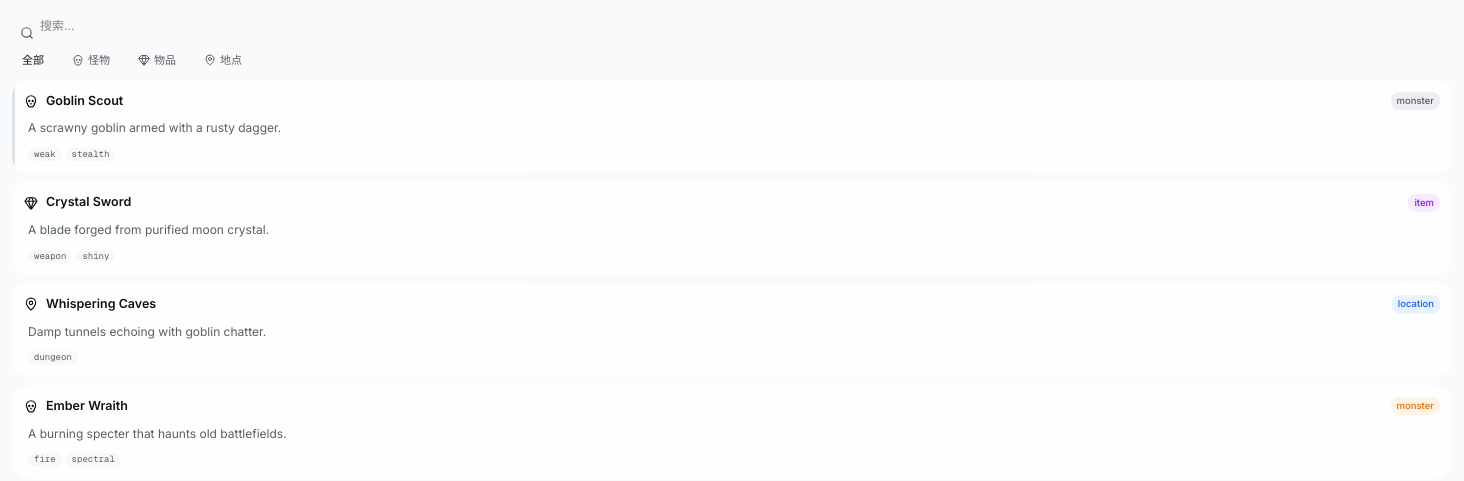
Test: FilterContainer component › combines search query and tab filter
Click the tab "怪物".
click(91, 60)  # box x1=62 y1=48 x2=120 y2=72
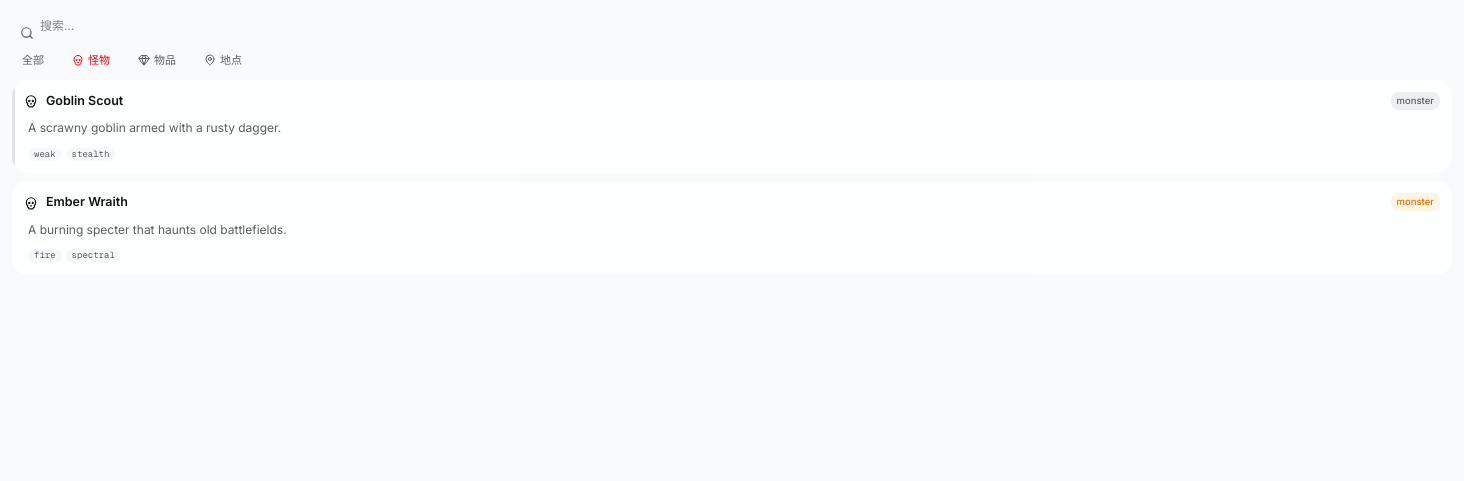
Type "goblin" into the search field with placeholder "搜索…".
click(732, 26); type("goblin")  # box x1=12 y1=12 x2=1452 y2=40
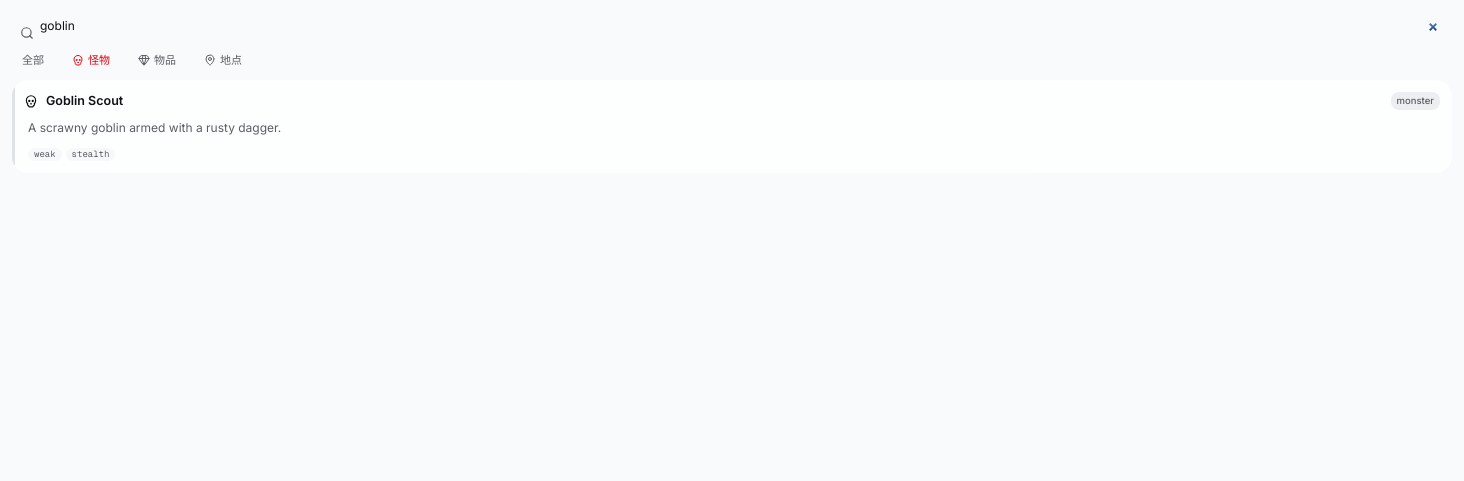
Expected: the text "Goblin Scout" is shown, x1=46 y1=92 x2=123 y2=108
Now the text "Ember Wraith" is gone
